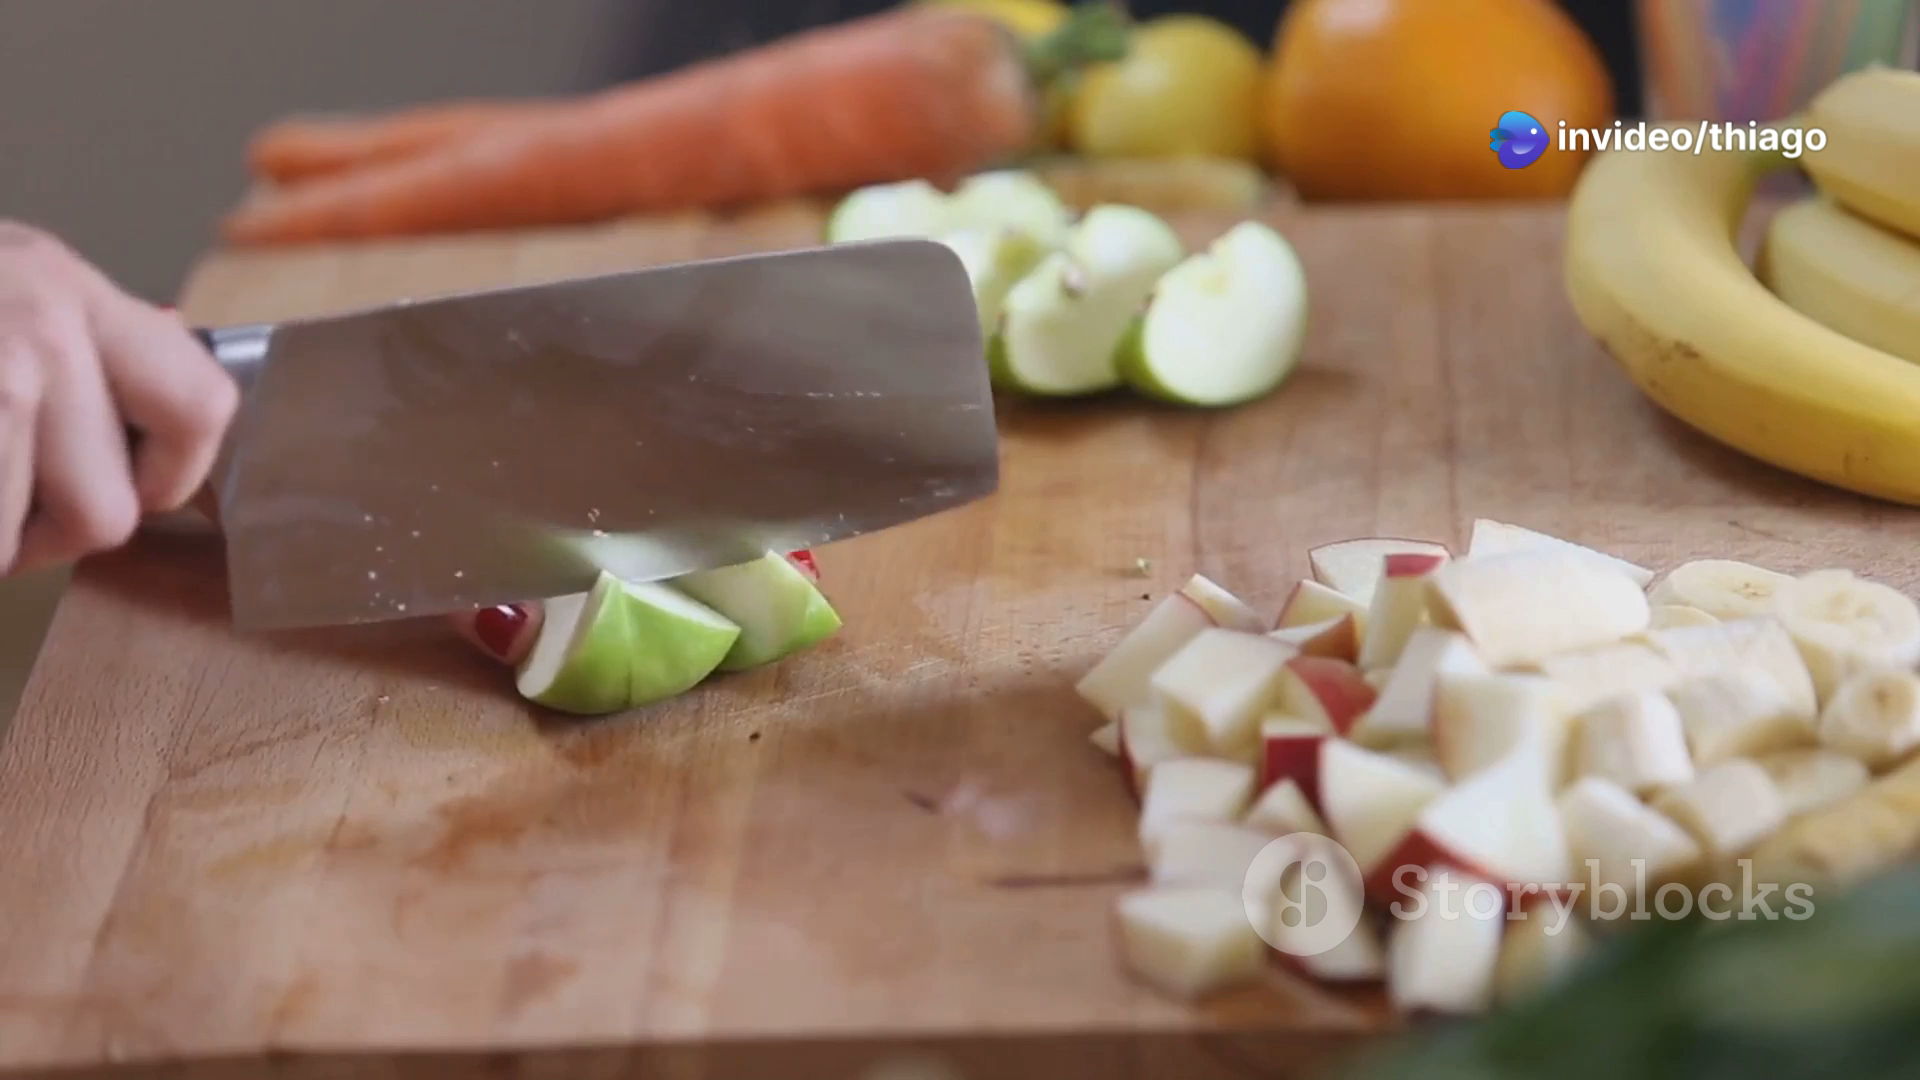cortante: (186, 236, 1002, 633)
